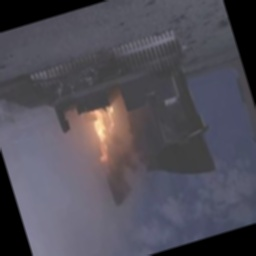fire: (75, 100, 140, 174)
smoke: (7, 147, 111, 256)
